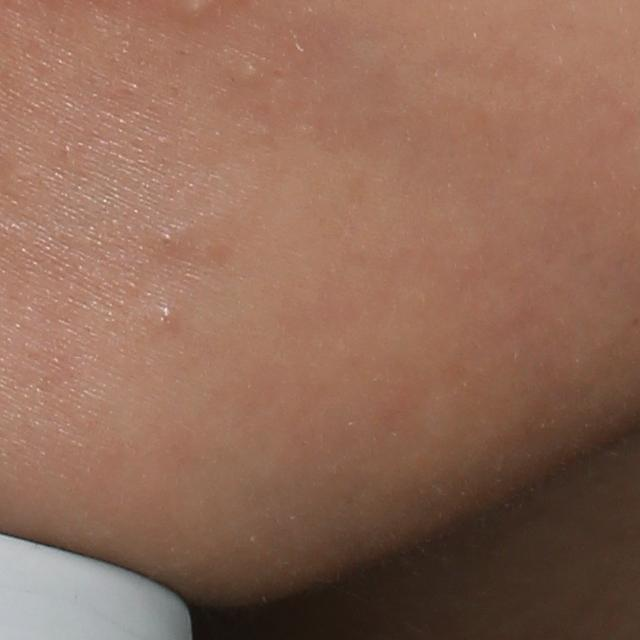comedo: (154, 302, 175, 328), (159, 230, 173, 247)
